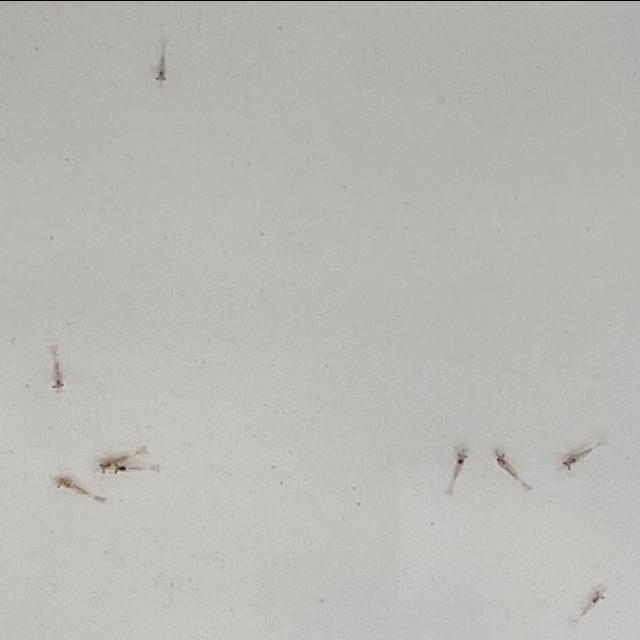shrimp-seed: (490, 448, 512, 470), (560, 452, 582, 473), (53, 471, 74, 491), (455, 446, 473, 468), (588, 588, 608, 606), (48, 374, 68, 391), (111, 460, 129, 478), (152, 68, 170, 84), (96, 459, 110, 475)
